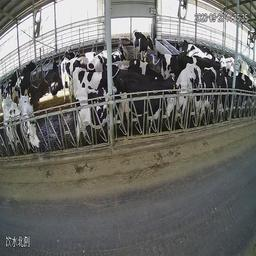cow: (115, 65, 174, 143), (73, 90, 119, 149), (20, 91, 44, 161), (194, 58, 216, 131), (219, 68, 245, 123), (2, 92, 21, 161), (178, 61, 192, 126), (16, 59, 39, 97), (132, 26, 155, 61), (71, 65, 100, 91), (47, 61, 64, 94), (164, 48, 175, 80)
